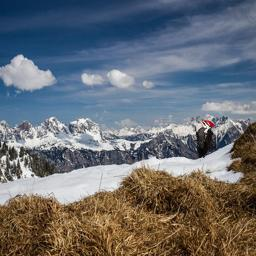Woodpecker: (192, 118, 216, 158)
